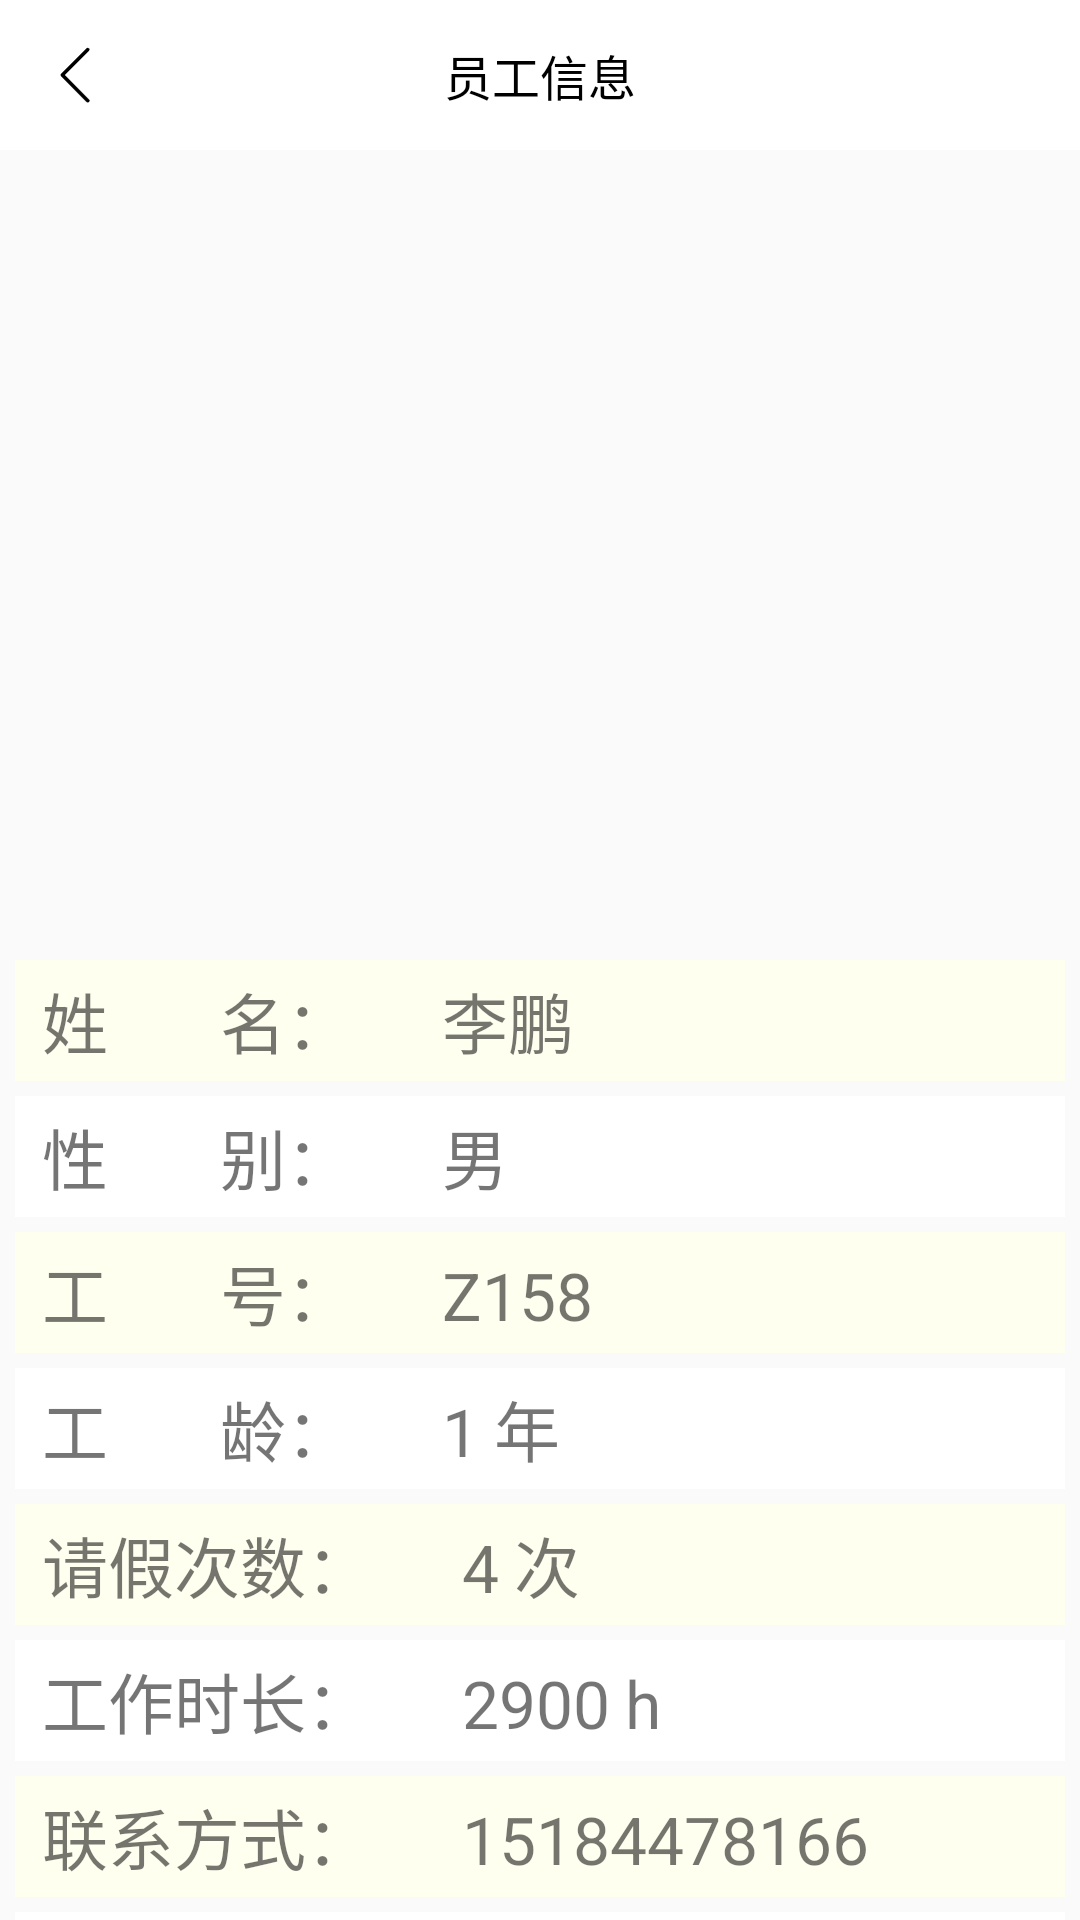

Icons on this 1080*1920 Android screen, each with the point to tap as point (x, y):
fanhui: point (75, 75)
